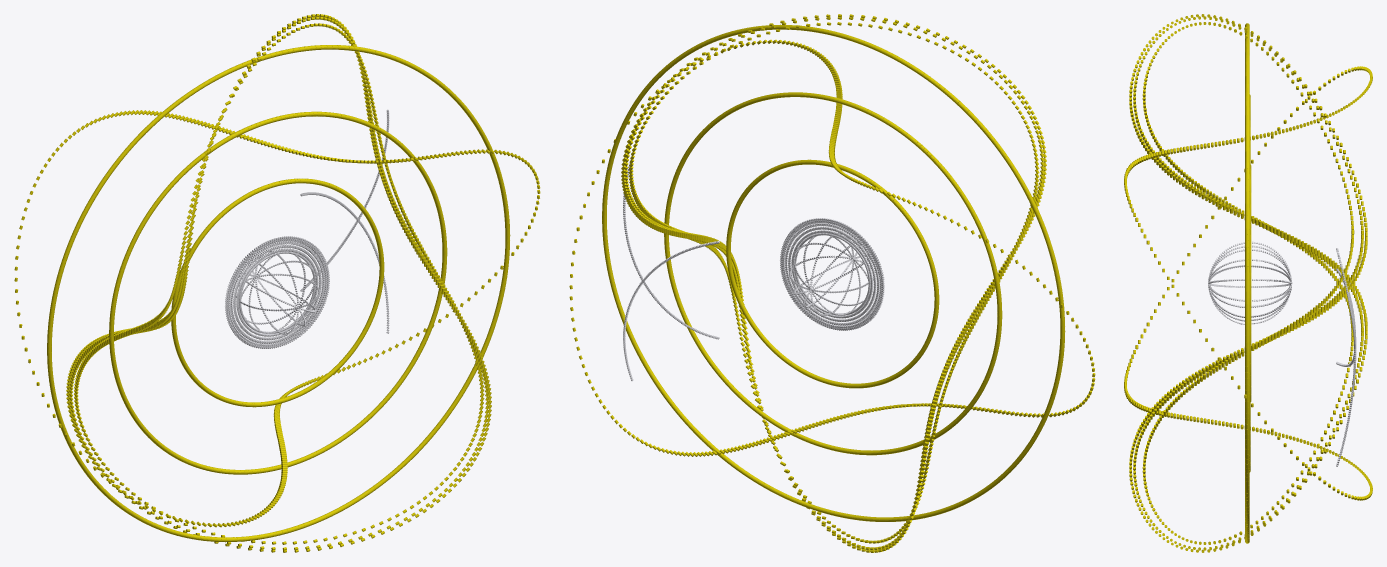
File: clockwork_static_monogold.glb
3 views of the same model, side by side, from view 1: azimuth 30°, elevation 25°; view 2: azimuth 150°, elevation 25°; view 3: azimuth 270°, elevation 25° (orthographic). The views are drawn at different scales.
Parts seen in each view (by area): view 1: world; view 2: world; view 3: world.
Boxes of the visible parts, x1=… form: world: x1=14, y1=14, x2=540, y2=552; world: x1=569, y1=14, x2=1095, y2=552; world: x1=1124, y1=14, x2=1372, y2=552.
Size of the model in its own units: 4.82 by 4.77 by 2.12.
